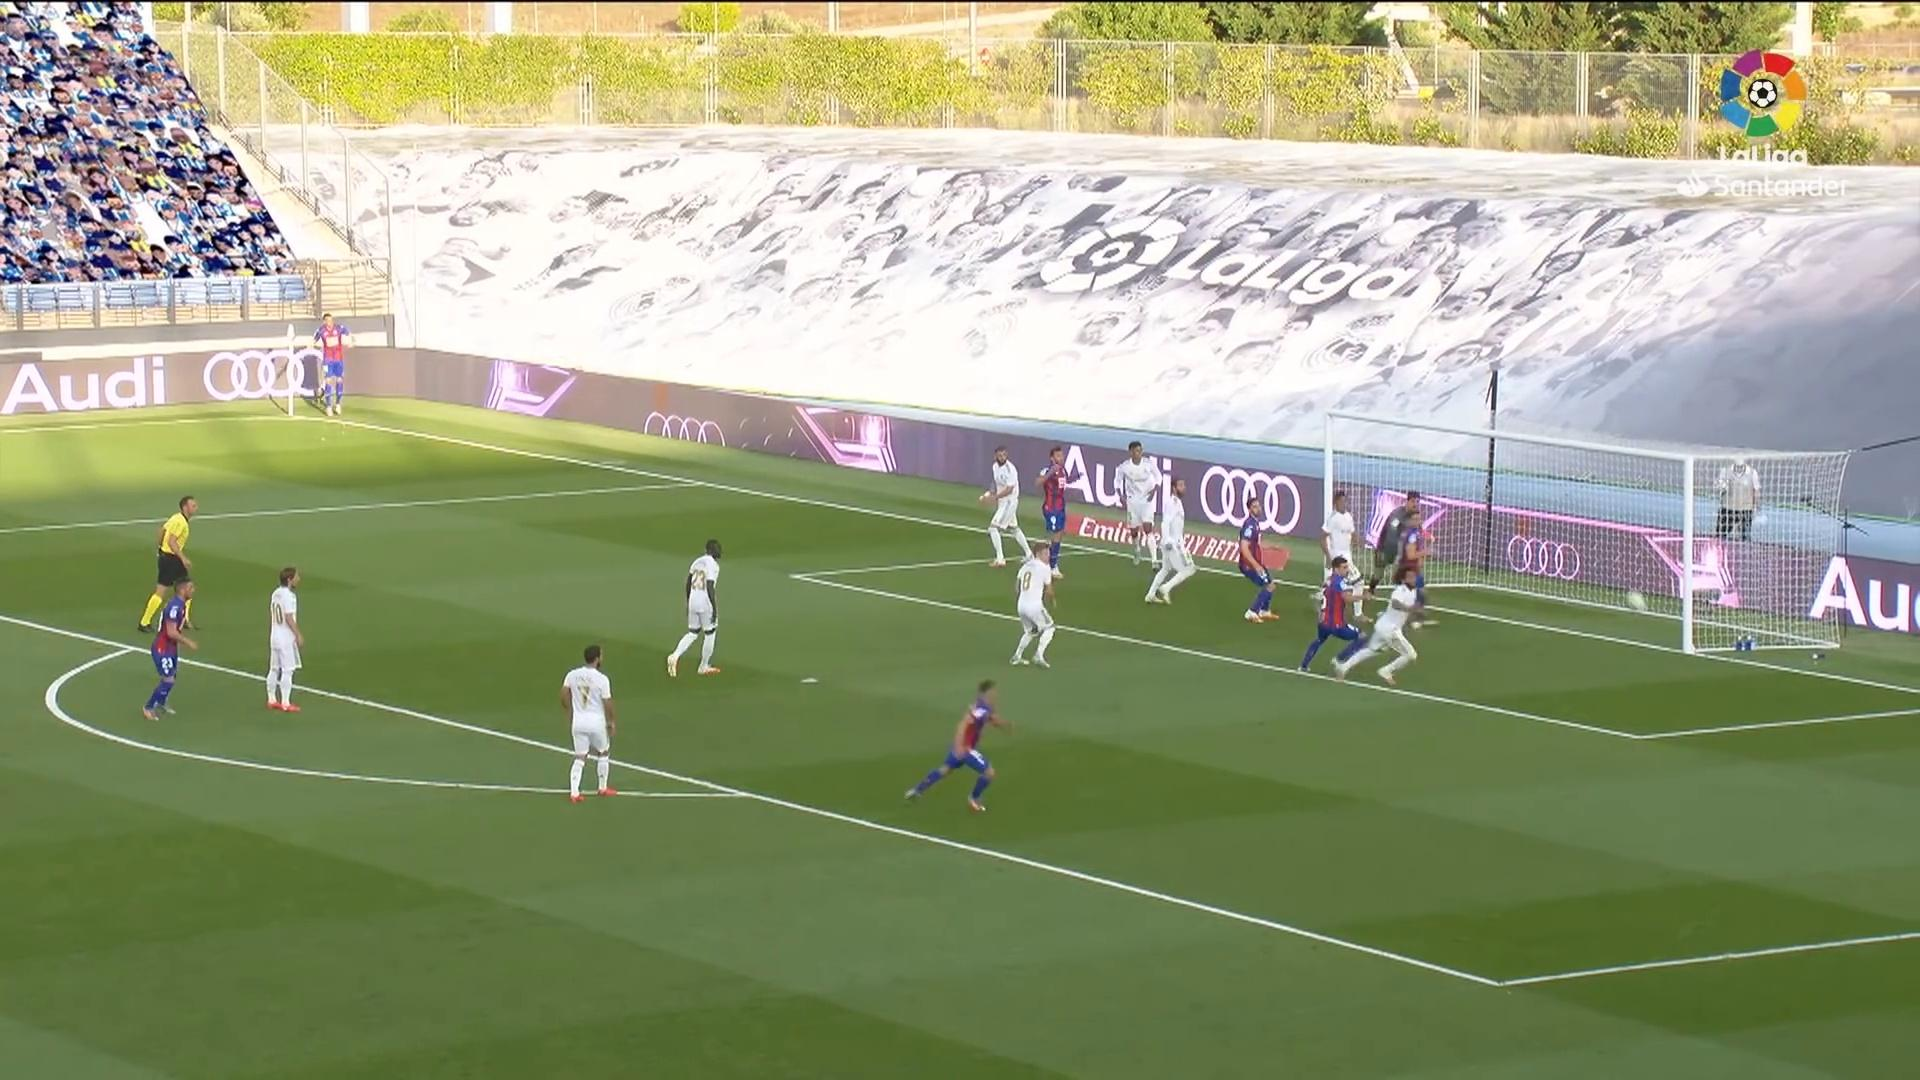ball: (1622, 591, 1651, 617)
goalkeeper: (1360, 485, 1438, 634)
player: (909, 676, 1026, 815), (1341, 558, 1433, 691), (559, 641, 623, 806), (1297, 557, 1374, 684), (664, 537, 730, 684), (138, 579, 198, 726), (983, 444, 1045, 571), (1026, 443, 1076, 598), (1140, 474, 1195, 612), (258, 565, 308, 716), (1317, 488, 1372, 623), (1010, 544, 1068, 672), (1114, 439, 1165, 572), (305, 311, 362, 421), (1238, 495, 1280, 627), (1397, 510, 1437, 633)
referee: (136, 492, 204, 635)
